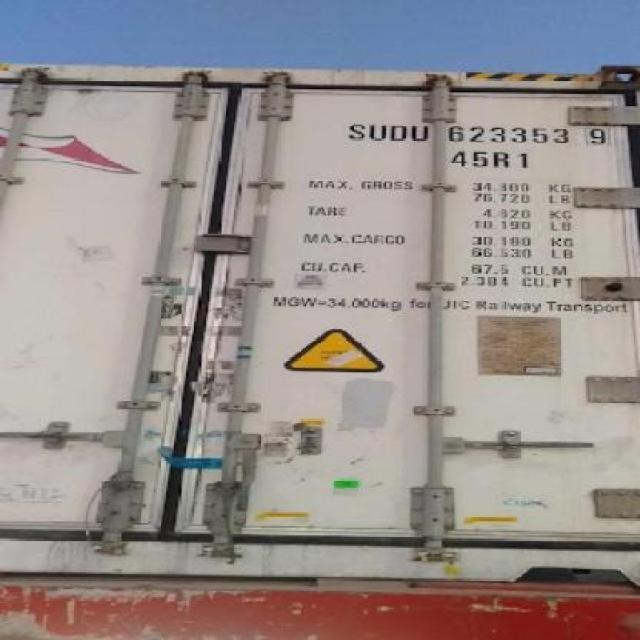ISO: (453, 146, 536, 172)
container_number: (351, 118, 617, 147)
